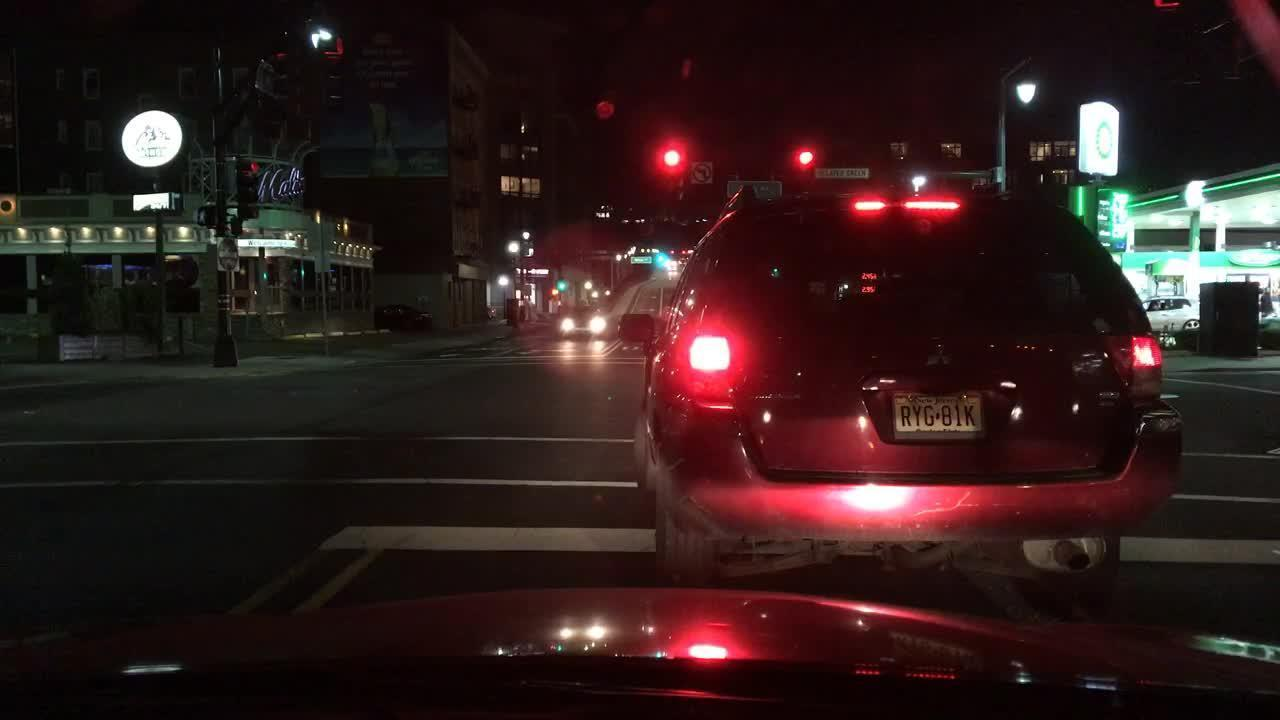Mitsubishi: (909, 319, 975, 383)
